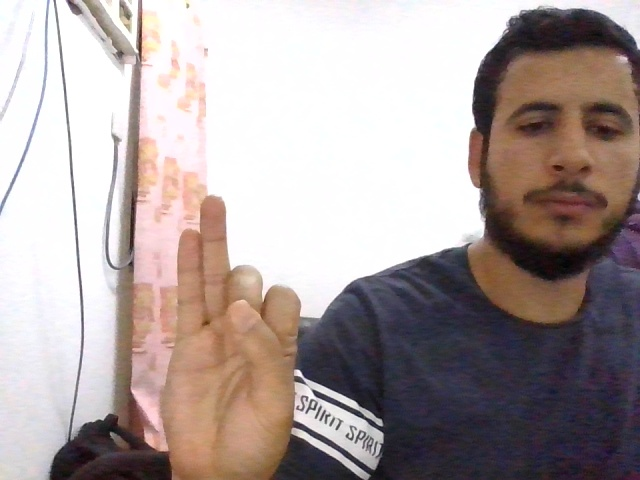Two: (159, 194, 303, 474)
